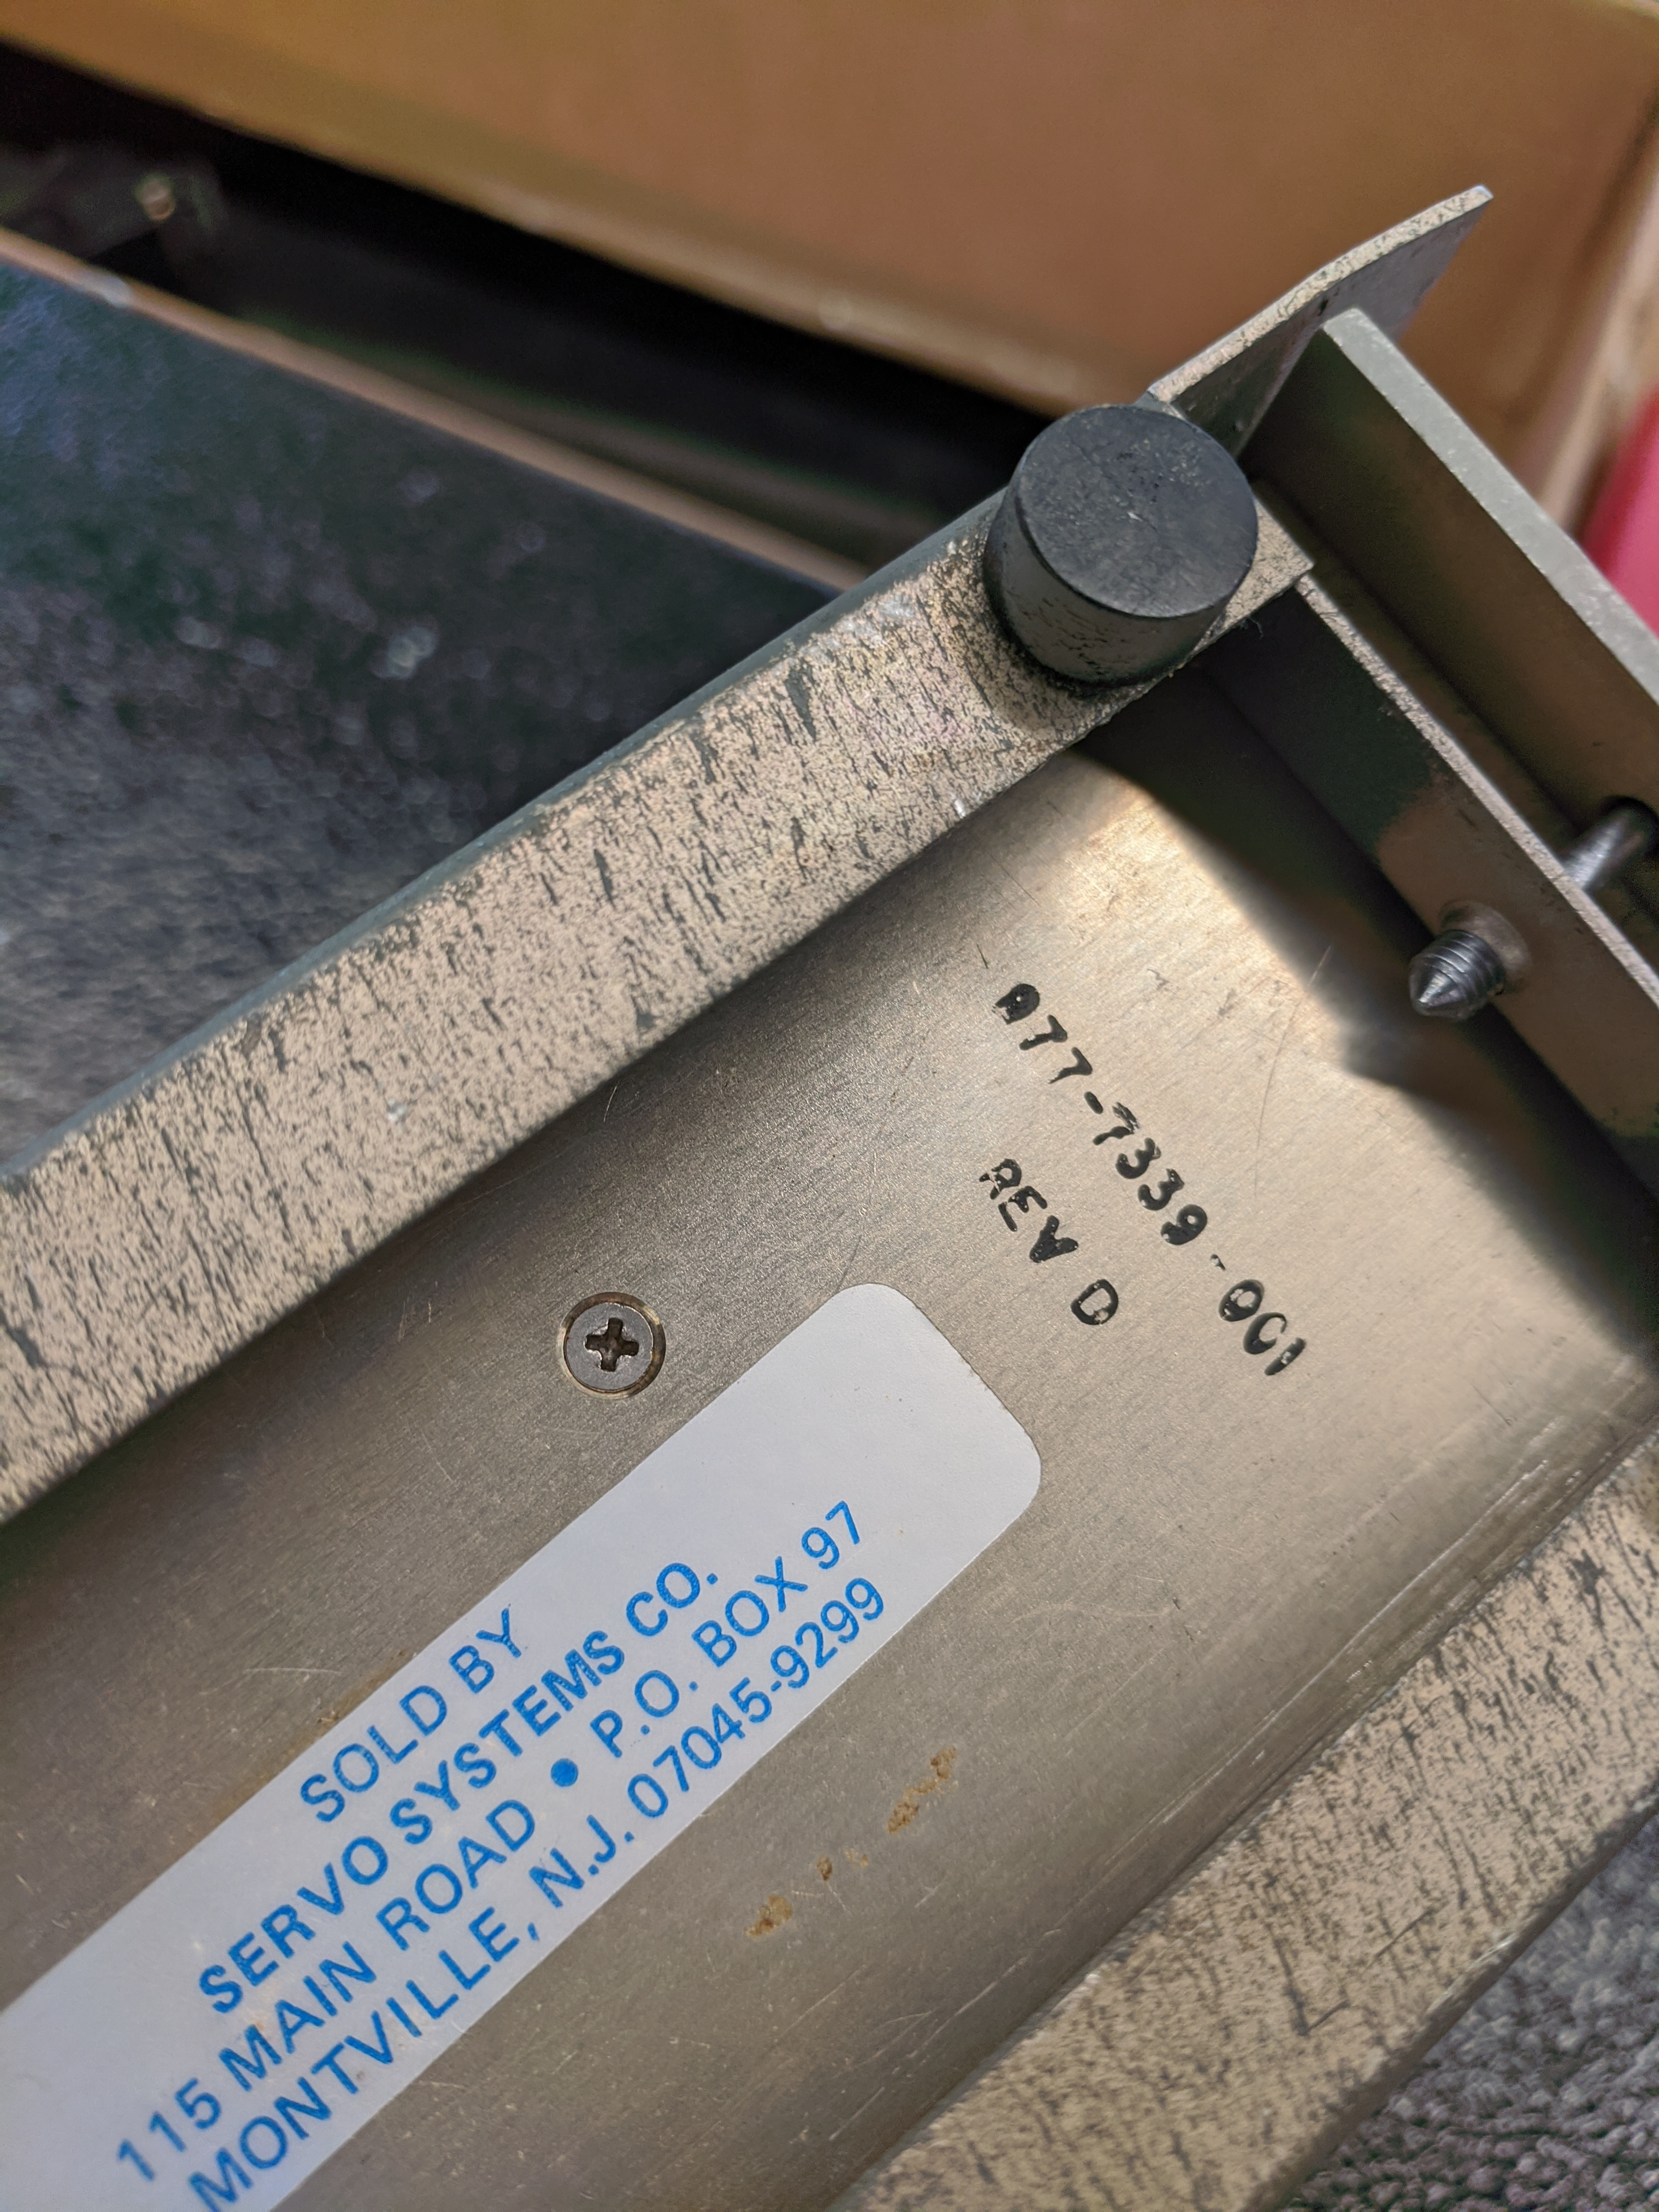cross_recessed_screw: (554, 1280, 653, 1388)
